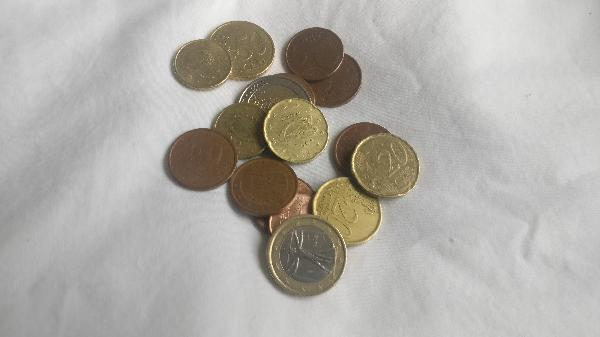Fifty Cent: (205, 18, 276, 76)
Five Cent: (165, 126, 236, 190), (234, 157, 297, 215), (331, 120, 394, 171), (309, 54, 362, 112), (286, 27, 342, 80)
One Euro: (265, 216, 345, 296)
Twenty Cent: (312, 176, 384, 249), (262, 96, 330, 163), (353, 135, 420, 196), (169, 37, 233, 90)
Two Euro: (239, 75, 312, 125)
